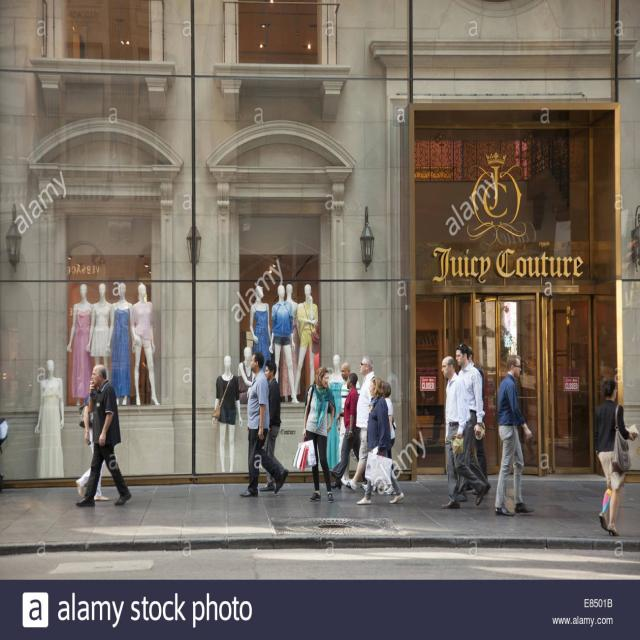body: (64, 280, 161, 408), (243, 282, 319, 404), (74, 363, 132, 509), (238, 350, 289, 499), (593, 378, 640, 538), (440, 354, 488, 510), (493, 353, 535, 518), (356, 374, 405, 506), (291, 365, 336, 505), (453, 343, 492, 503), (339, 354, 377, 494), (455, 344, 489, 497), (329, 372, 368, 491), (257, 358, 288, 496), (75, 384, 110, 502), (210, 352, 244, 473), (362, 380, 397, 496), (33, 358, 65, 478), (335, 361, 351, 481), (0, 416, 10, 492), (524, 438, 536, 466)
